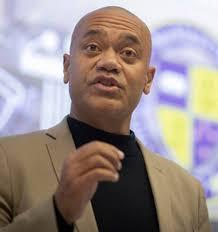Persons: (58, 3, 163, 135)
